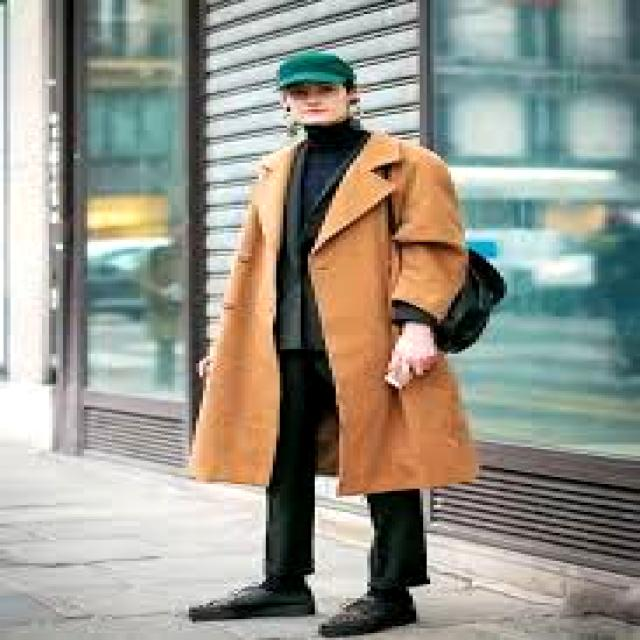hat: (277, 52, 356, 88)
